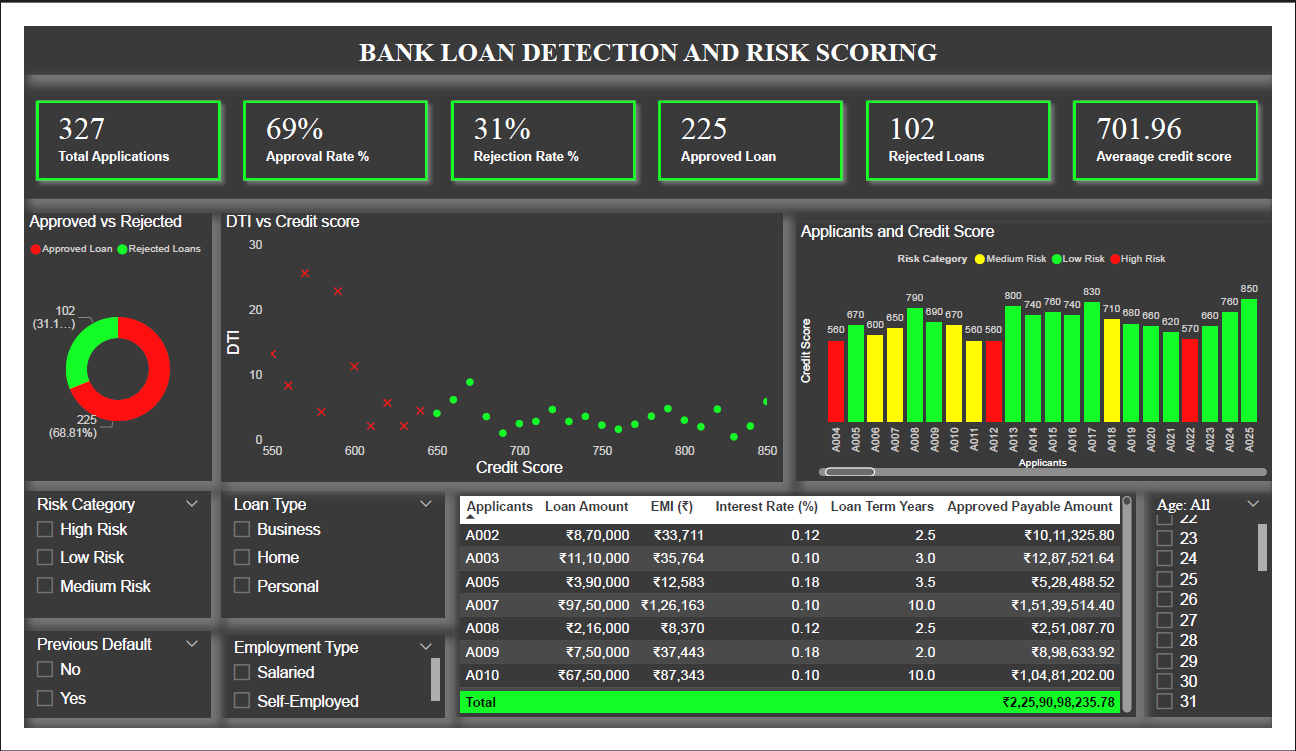

This screenshot's page, from the dashboard's own definition file:
{"tool":"powerbi","page":{"name":"BLDRC","canvas":[1280,720],"ordinal":0},"visuals":[{"type":"cardVisual","title":"rgsg","fields":{"Data":["bank loan detection and risk scoring.Total Applications","bank loan detection and risk scoring.Approval Rate %","bank loan detection and risk scoring.Rejection Rate %","bank loan detection and risk scoring.Approved Loan","bank loan detection and risk scoring.Rejected Loans","bank loan detection and risk scoring.Averaage credit score","select"]},"box":[0,50,1280,127],"z":0},{"type":"donutChart","title":"Approved vs Rejected","fields":{"Y":["bank loan detection and risk scoring.Approved Loan","bank loan detection and risk scoring.Rejected Loans"]},"box":[0,192,192,274],"z":1000},{"type":"slicer","fields":{"Values":["bank loan detection and risk scoring.Risk Category"]},"box":[0,476.7,191.1,130],"z":2000},{"type":"slicer","fields":{"Values":["bank loan detection and risk scoring.Employment Type"]},"box":[202,624,229,85],"z":3000},{"type":"slicer","fields":{"Values":["bank loan detection and risk scoring.Loan Type"]},"box":[202.2,476.7,228.9,130],"z":4000},{"type":"slicer","fields":{"Values":["bank loan detection and risk scoring.Previous Default"]},"box":[0,621,191,88],"z":5000},{"type":"scatterChart","title":"DTI vs Credit score","fields":{"X":["bank loan detection and risk scoring.Credit Score"],"Y":["Sum(bank loan detection and risk scoring.Debt to Income Ratio)"],"Series":["bank loan detection and risk scoring.Loan Status"]},"box":[201.7,191.7,576.7,275],"z":6000},{"type":"columnChart","title":"Applicants and Credit Score","fields":{"Series":["bank loan detection and risk scoring.Risk Category"],"Category":["bank loan detection and risk scoring.Applicants"],"Y":["Sum(bank loan detection and risk scoring.Credit Score)"]},"box":[792,202,488,264],"z":7000},{"type":"slicer","fields":{"Values":["bank loan detection and risk scoring.Age"]},"box":[1149.1,477.3,130.9,231.8],"z":8000},{"type":"textbox","box":[0,0,1280,50],"z":9000},{"type":"tableEx","fields":{"Values":["bank loan detection and risk scoring.Applicants","bank loan detection and risk scoring.Loan Amount","bank loan detection and risk scoring.EMI (₹)","bank loan detection and risk scoring.Interest Rate (%)","bank loan detection and risk scoring.Loan Term Years","bank loan detection and risk scoring.Approved Payable Amount"]},"box":[442,477,699,232],"z":10000}]}

Visuals, with their boxes in screenshot pixels (x1, y1, x2, y2), scaled from the page's 1280x720 canvas onto the 1296x751 screenshot:
"rgsg" cardVisual: (x1=0, y1=52, x2=1295, y2=185)
"Approved vs Rejected" donutChart: (x1=0, y1=200, x2=194, y2=486)
slicer - bank loan detection and risk scoring.Risk Category: (x1=0, y1=497, x2=193, y2=633)
slicer - bank loan detection and risk scoring.Employment Type: (x1=205, y1=651, x2=436, y2=740)
slicer - bank loan detection and risk scoring.Loan Type: (x1=205, y1=497, x2=436, y2=633)
slicer - bank loan detection and risk scoring.Previous Default: (x1=0, y1=648, x2=193, y2=740)
"DTI vs Credit score" scatterChart: (x1=204, y1=200, x2=788, y2=487)
"Applicants and Credit Score" columnChart: (x1=802, y1=211, x2=1295, y2=486)
slicer - bank loan detection and risk scoring.Age: (x1=1163, y1=498, x2=1295, y2=740)
textbox: (x1=0, y1=0, x2=1295, y2=52)
tableEx - bank loan detection and risk scoring.Applicants x bank loan detection and risk scoring.Loan Amount: (x1=448, y1=498, x2=1155, y2=740)
